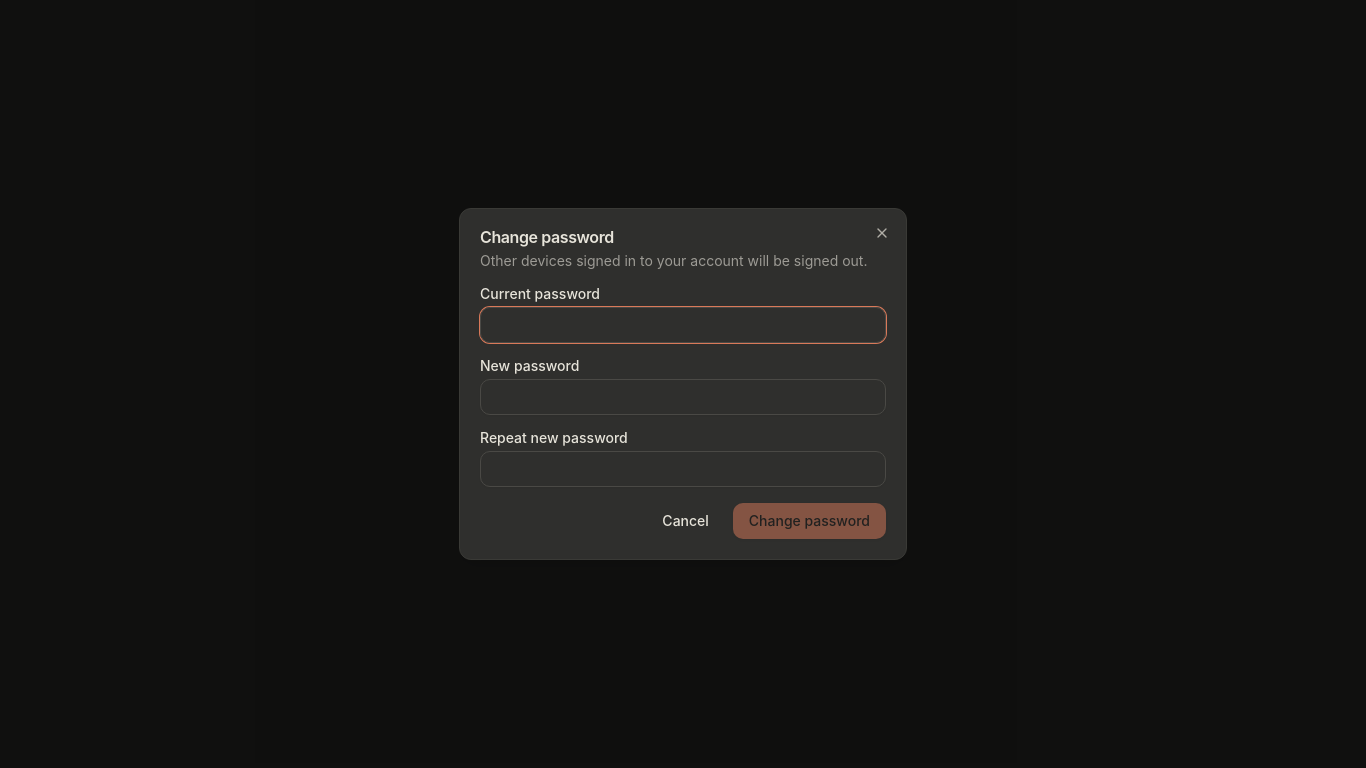
ChangePasswordDialog › shows the server's reason when the current password is wrong
Type "wrong-password" into the password field labelled "Current password". click: (683, 325)
box: [480,307,886,343]
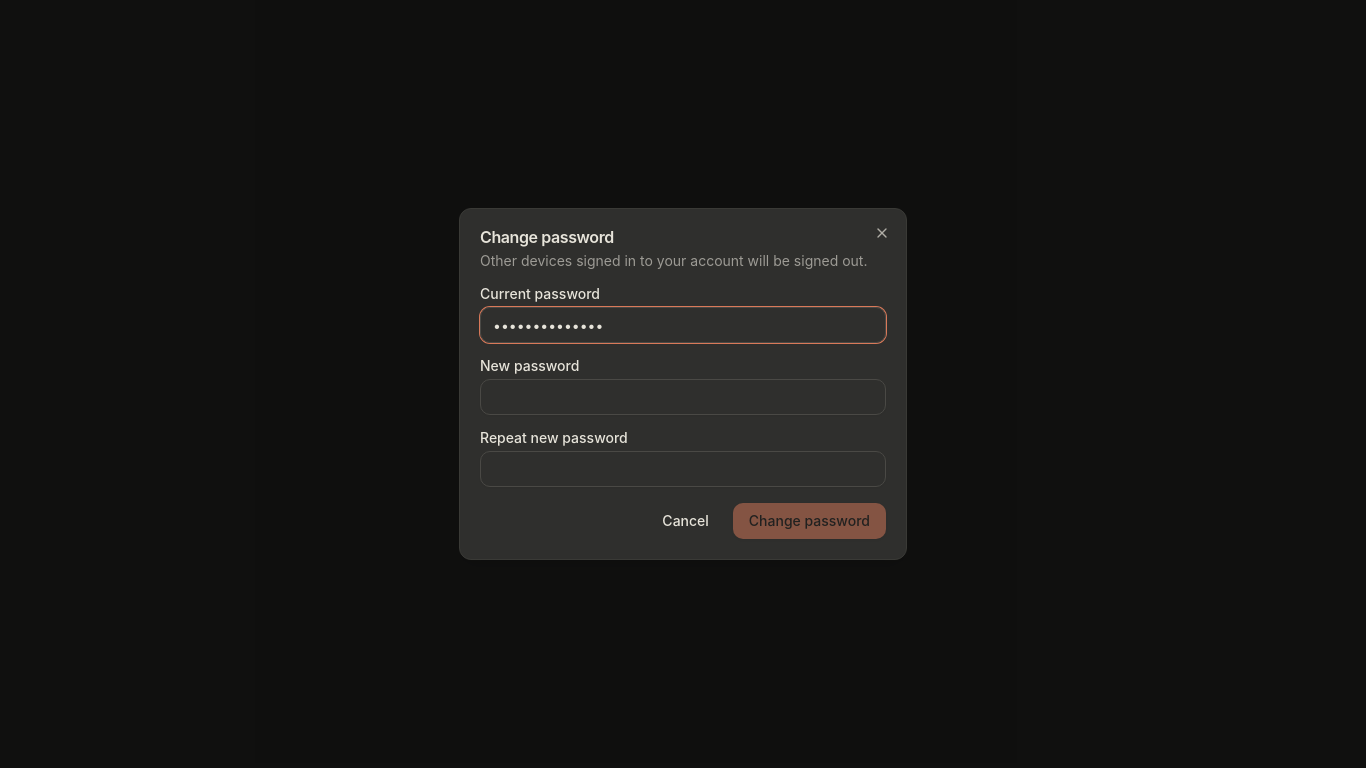
Type "a-long-new-password" into the password field labelled "New password". click: (683, 397)
box: [480,379,886,415]
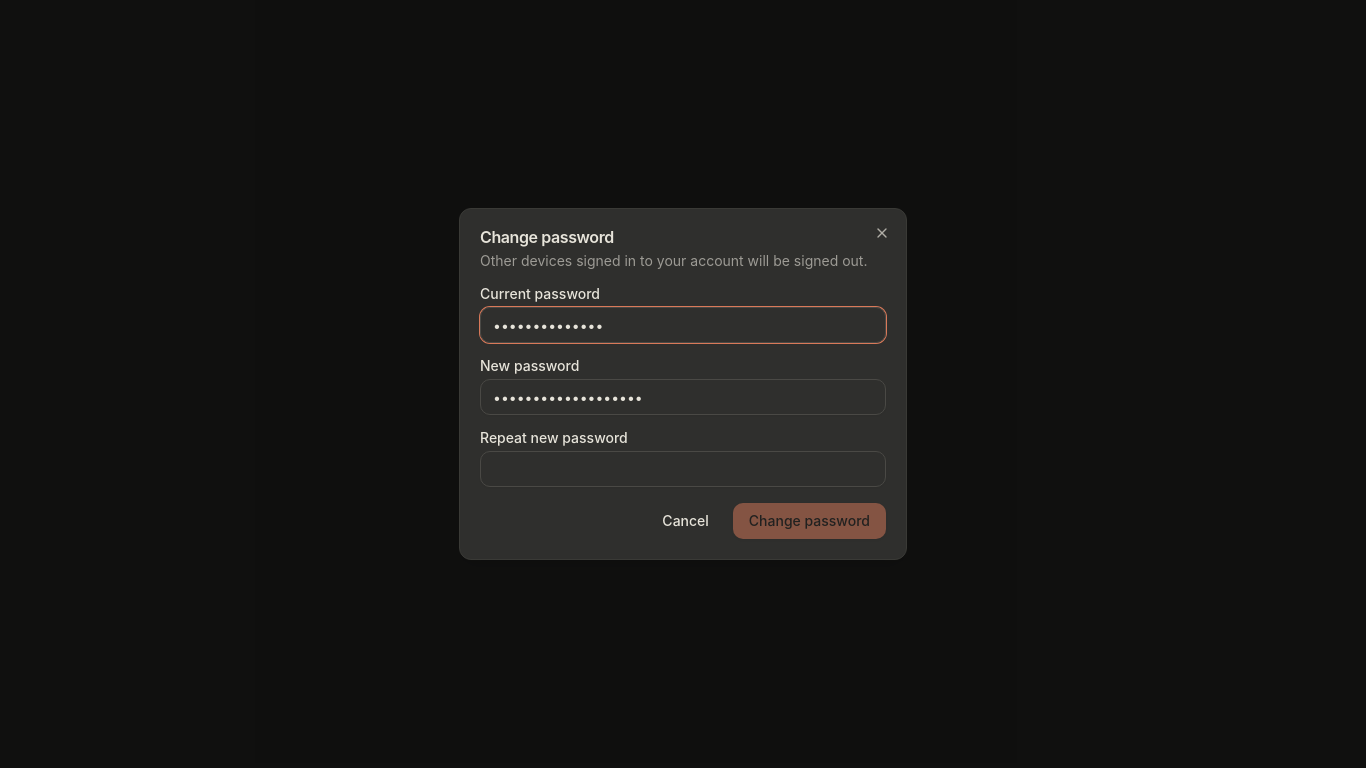
Type "a-long-new-password" into the password field labelled "Repeat new password". click: (683, 469)
box: [480,451,886,487]
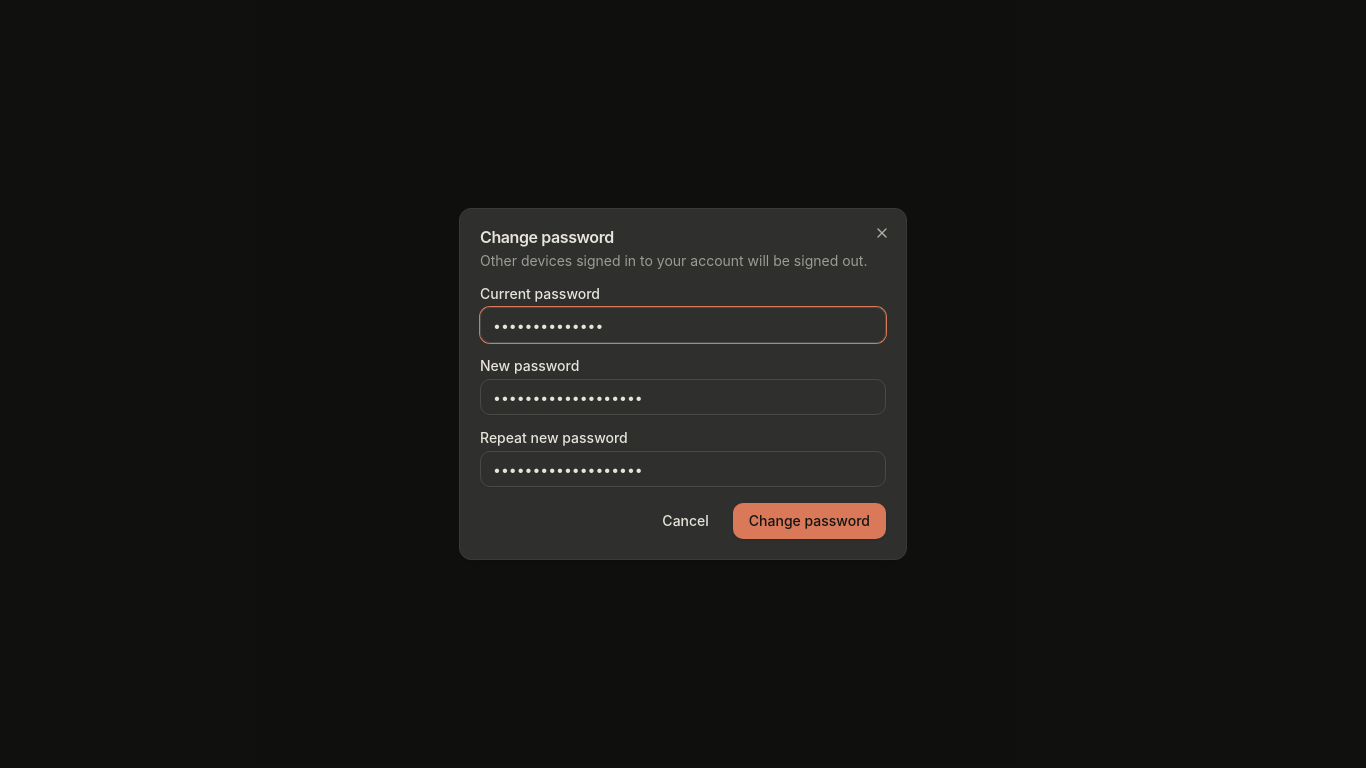
Submit the form "Change password", box [480,229,886,539]
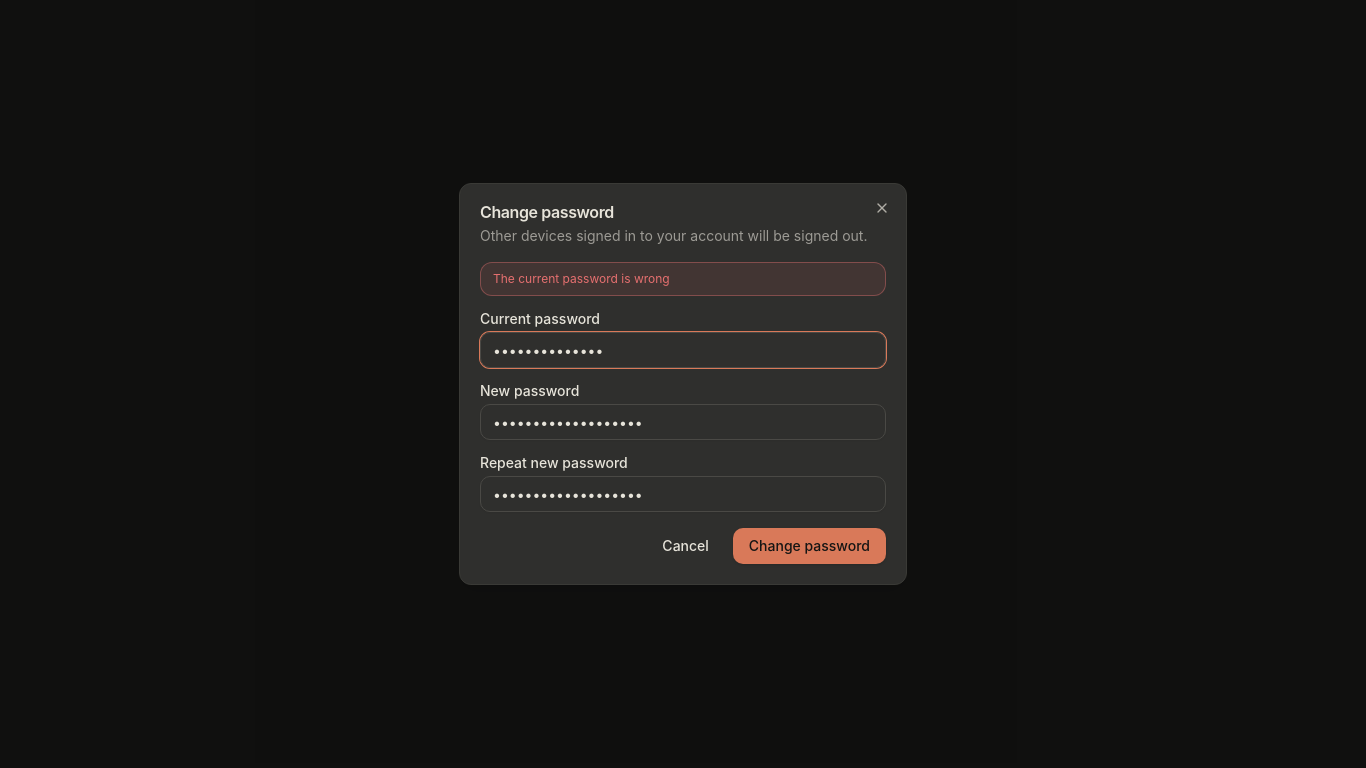
Expected: the message reads "The current password is wrong", [493,271,670,286]
